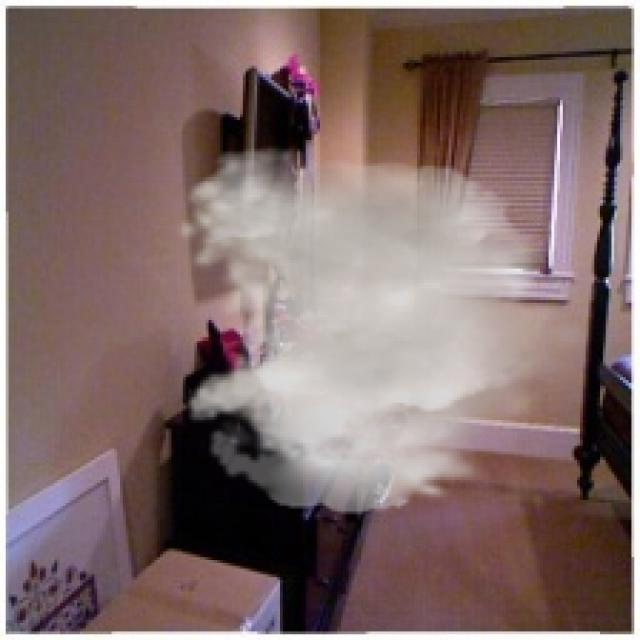Smoke: (175, 146, 594, 514)
